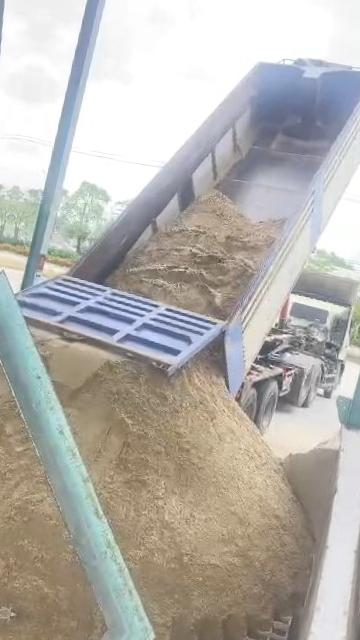sand: (41, 339, 311, 640), (0, 396, 102, 626), (107, 192, 284, 318), (284, 438, 339, 542), (0, 356, 8, 409)
